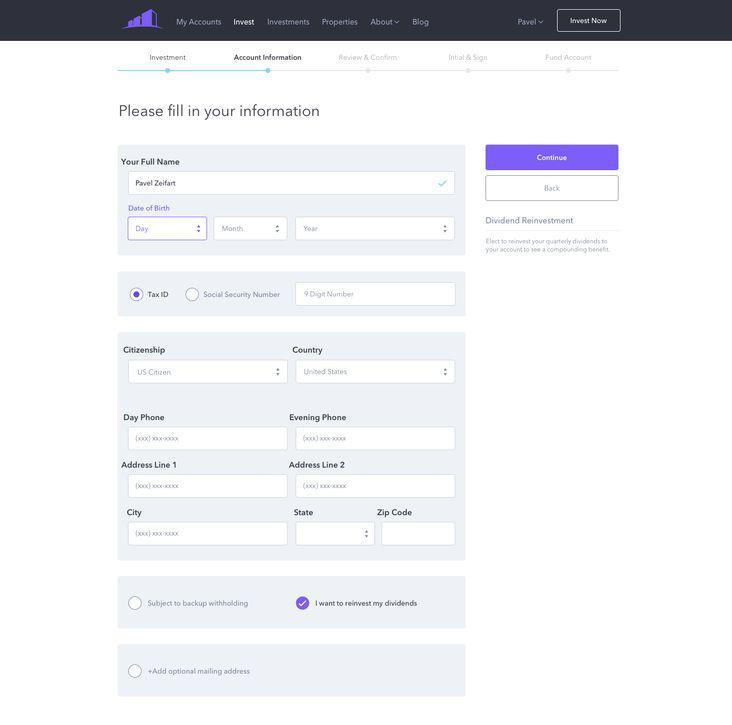button: (486, 145, 620, 172), (486, 176, 620, 202), (559, 10, 622, 32)
checkbox: (295, 595, 314, 612), (128, 595, 144, 614), (128, 663, 144, 681)
dropdown: (297, 361, 456, 385), (129, 361, 288, 384), (296, 218, 455, 241), (296, 523, 376, 547), (129, 217, 208, 241), (214, 218, 290, 240)
icon: (538, 19, 545, 26), (395, 20, 401, 26)
input: (130, 173, 456, 195), (296, 283, 457, 307), (297, 428, 458, 452), (128, 428, 289, 452), (129, 476, 289, 499), (297, 475, 456, 498), (129, 523, 287, 546), (382, 523, 456, 547)
label: (314, 597, 422, 612), (148, 665, 253, 679), (148, 598, 251, 610), (204, 291, 283, 302), (290, 412, 349, 425), (122, 157, 183, 169), (120, 459, 180, 471), (290, 459, 348, 471), (128, 202, 174, 215), (123, 412, 167, 425), (123, 346, 167, 358), (177, 18, 223, 28), (376, 508, 417, 518), (294, 345, 327, 357), (267, 19, 311, 27), (322, 19, 359, 27), (370, 18, 395, 29), (148, 290, 171, 301), (517, 18, 538, 29), (232, 19, 257, 28), (412, 19, 431, 30), (126, 507, 144, 518), (295, 509, 315, 518)
radio: (130, 287, 145, 303), (187, 287, 200, 302)
